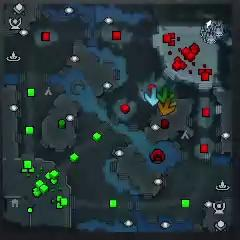x3: (144, 87, 159, 106)
x4: (157, 86, 175, 104)
x5: (156, 99, 176, 115)
